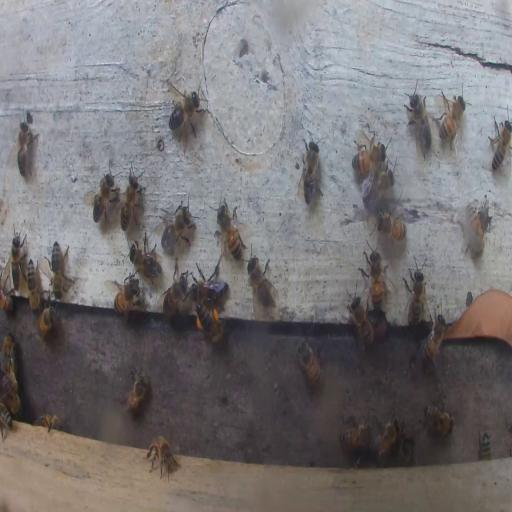bee: (406, 79, 432, 158), (167, 88, 203, 145), (345, 286, 376, 352), (296, 134, 323, 209), (88, 160, 119, 224), (159, 197, 197, 249), (436, 88, 466, 149), (245, 250, 276, 308), (217, 198, 245, 262), (144, 433, 181, 481), (404, 254, 427, 328), (120, 164, 144, 232), (13, 113, 37, 177), (420, 313, 448, 367), (118, 369, 150, 416), (129, 236, 162, 280), (190, 262, 224, 304), (48, 240, 72, 299), (488, 114, 512, 172), (467, 201, 491, 256), (423, 398, 456, 438), (112, 273, 141, 318), (5, 231, 25, 296), (196, 303, 225, 347), (296, 338, 322, 387), (165, 268, 190, 316), (350, 141, 386, 172), (360, 169, 393, 202), (374, 418, 400, 458), (339, 422, 373, 452), (25, 256, 40, 312), (369, 248, 382, 308), (379, 210, 406, 238), (1, 263, 16, 310), (2, 330, 14, 382), (38, 306, 54, 339), (0, 402, 13, 438), (4, 385, 20, 414), (37, 413, 64, 430), (478, 430, 492, 461), (398, 437, 414, 464)
